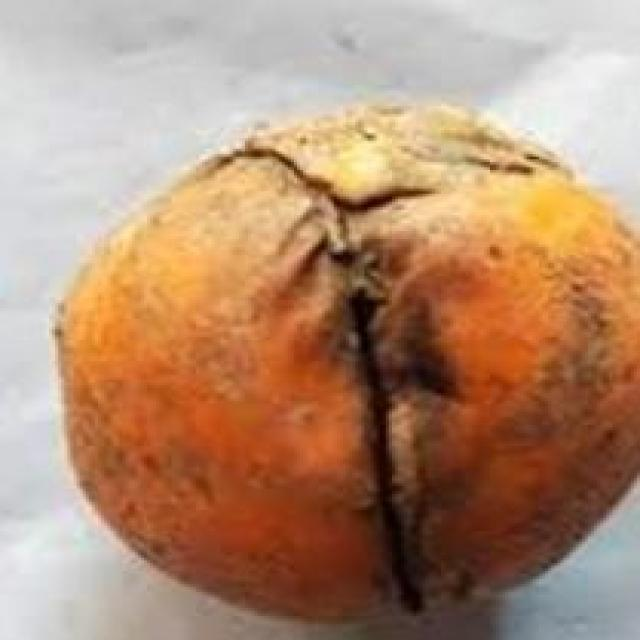damaged: (49, 101, 637, 627)
